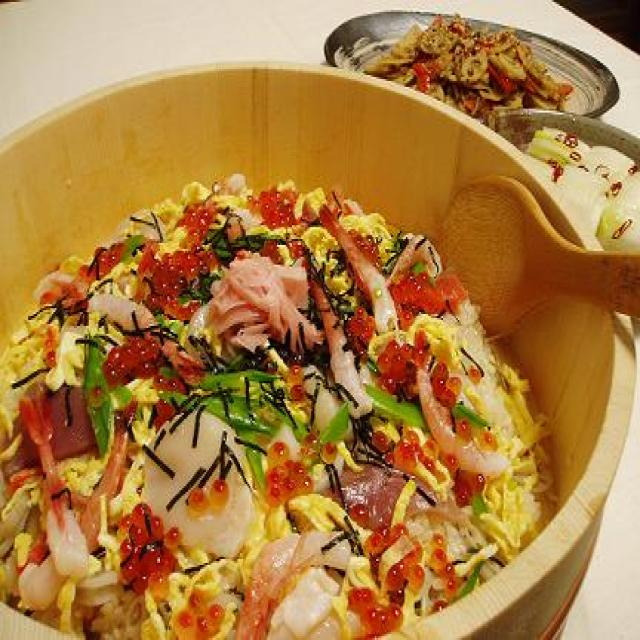寿司卷物: (0, 49, 640, 640)
